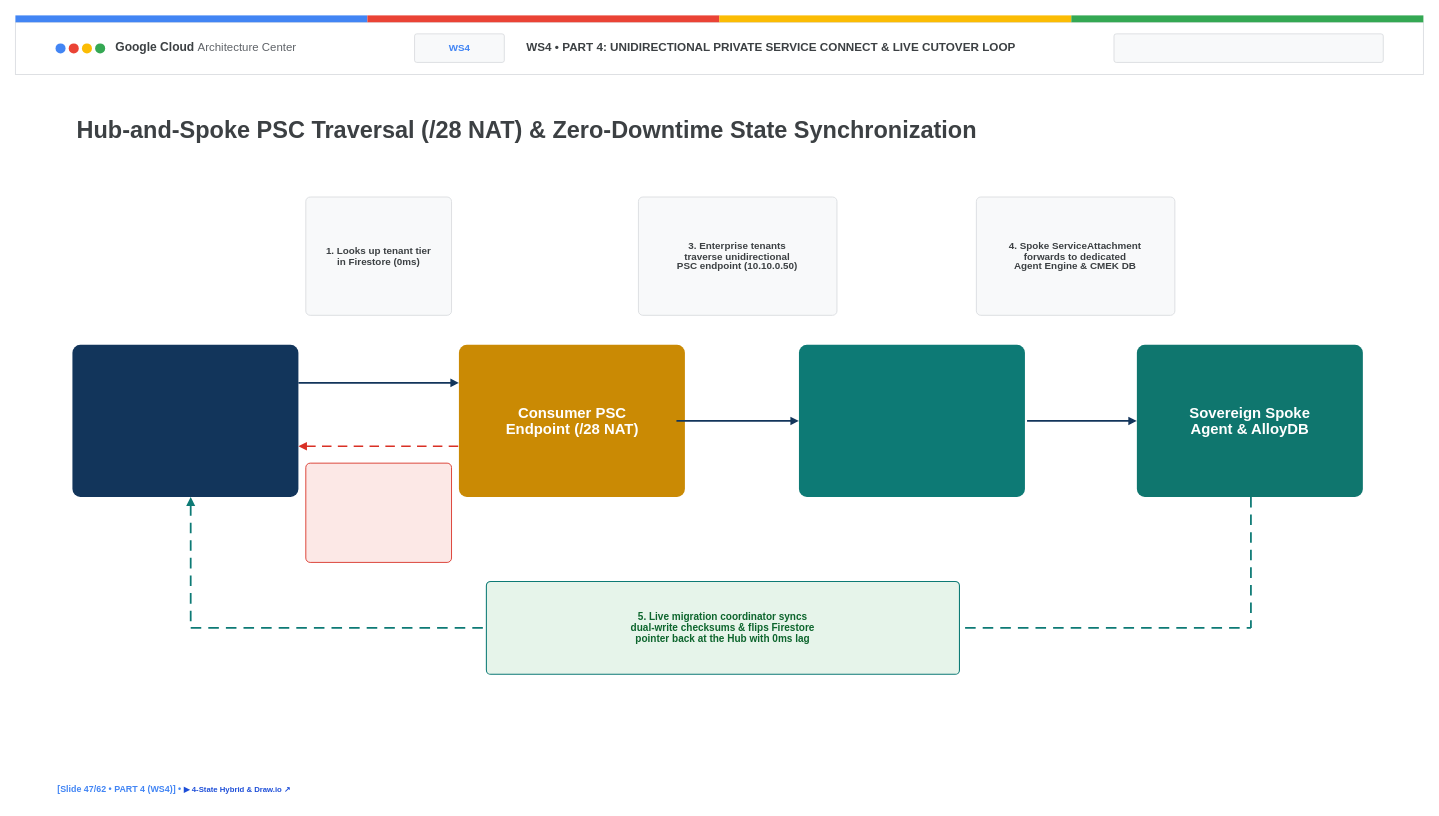
Image size: 1439x816. Some labels were removed from this diagram. The shapes that lost their labels are listed below. From the top down, each one's centre as x and y in pixels, then its label:
(x=1248, y=47): ASYNC-STATE-FLOW-PIPELINE
(x=185, y=420): Shared Hub ALB & Tier Router
(x=911, y=420): Spoke Producer ServiceAttachment
(x=378, y=512): 2. Standard tenants route directly to shared pool (120 RPM fast-path)
